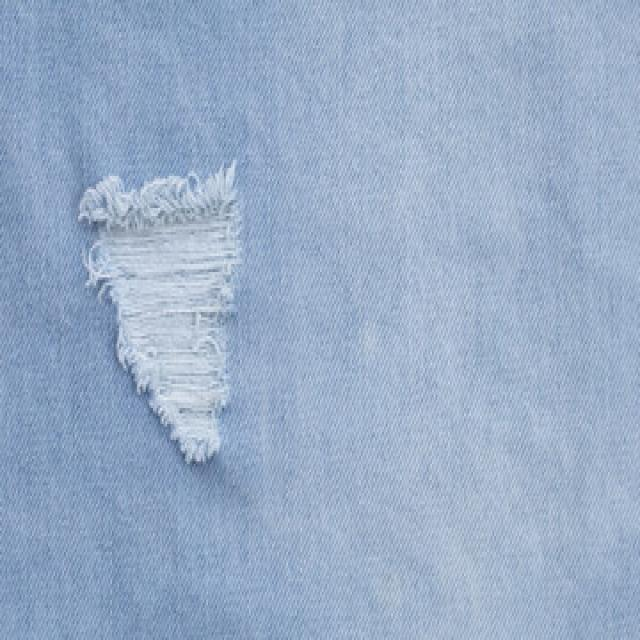Hole: (78, 163, 240, 464)
